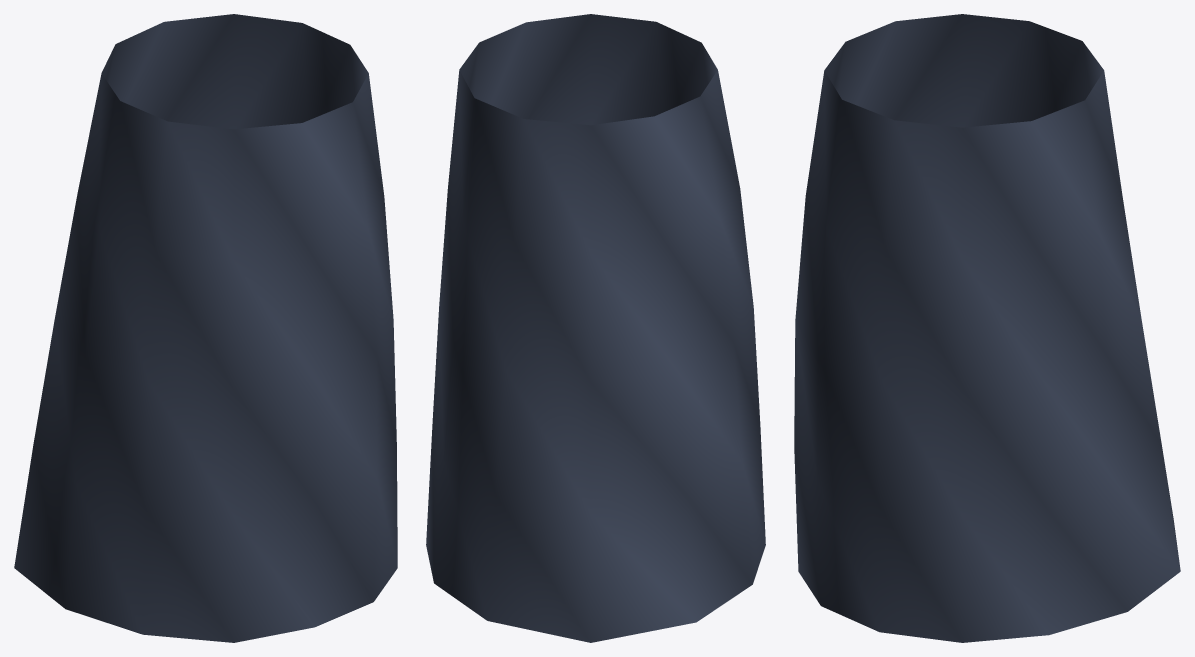
File: lead_armor_cuisse.R.glb
3 views of the same model, side by side, from view 1: azimuth 30°, elevation 25°; view 2: azimuth 150°, elevation 25°; view 3: azimuth 270°, elevation 25° (orthographic). The views are drawn at different scales.
Visible parts, largest first — view 1: lead_armor_cuisse.R; view 2: lead_armor_cuisse.R; view 3: lead_armor_cuisse.R.
Part boxes in pixels (box(x1,y1,x2,y2)): lead_armor_cuisse.R: box(14, 14, 397, 642); lead_armor_cuisse.R: box(426, 14, 765, 642); lead_armor_cuisse.R: box(794, 14, 1180, 642).
Size of the model in its own units: 0.2449 by 0.37 by 0.2586.
